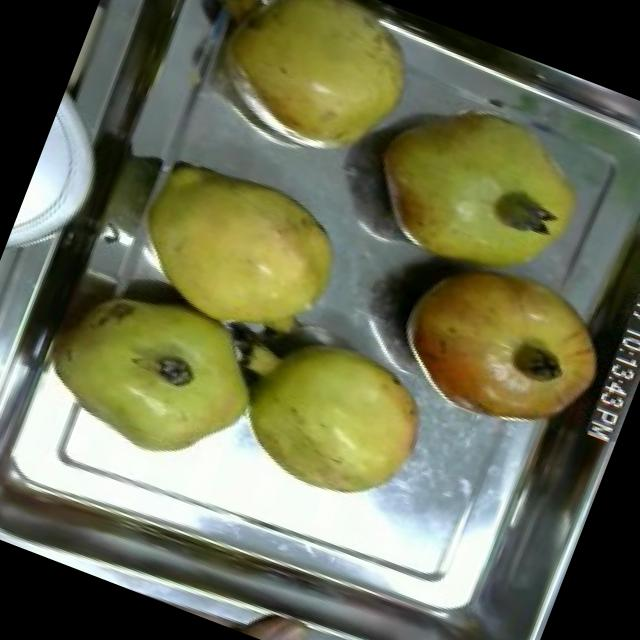fruit: (95, 126, 378, 370), (341, 69, 614, 311), (25, 257, 295, 491), (375, 230, 629, 453), (206, 302, 453, 523), (171, 0, 448, 189)
